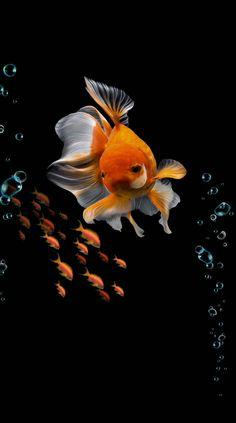goldfish: (40, 73, 198, 249)
